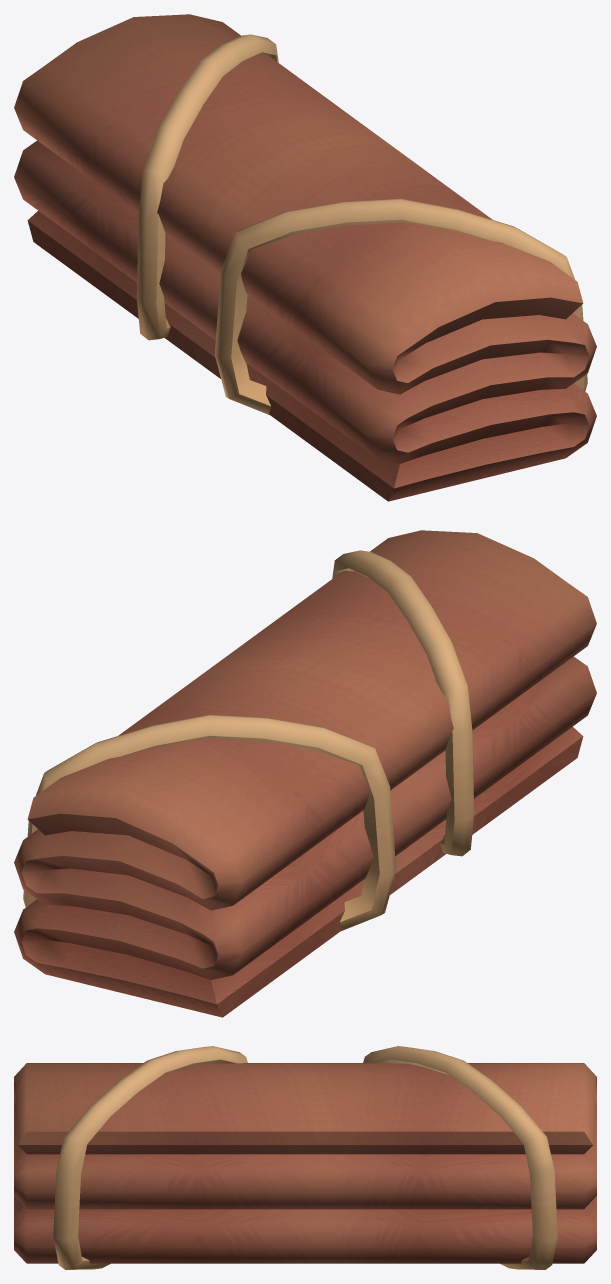
File: Textiles_C.gltf
3 views of the same model, one above another, from view 1: azimuth 30°, elevation 25°; view 2: azimuth 150°, elevation 25°; view 3: azimuth 270°, elevation 25° (orthographic). The views are drawn at different scales.
Visible parts, largest first — view 1: Textiles_C; view 2: Textiles_C; view 3: Textiles_C.
Part boxes in pixels (box(x1,y1,x2,y2)): Textiles_C: box(14, 14, 596, 501); Textiles_C: box(14, 530, 596, 1017); Textiles_C: box(14, 1046, 596, 1269).
Size of the model in its own units: 0.6142 by 0.5225 by 1.55.
1 material, 1 textured.
